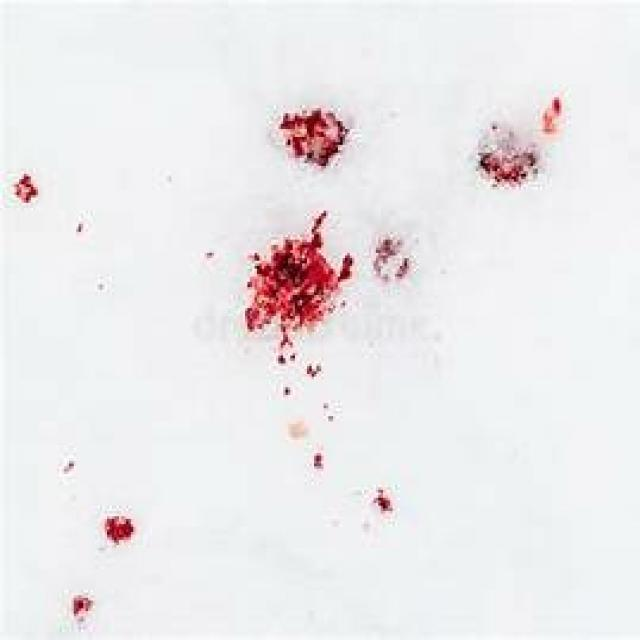wound: (182, 204, 428, 416), (447, 84, 579, 219), (248, 84, 382, 188), (276, 449, 430, 536), (84, 488, 148, 564), (54, 584, 120, 638), (0, 163, 53, 202)
